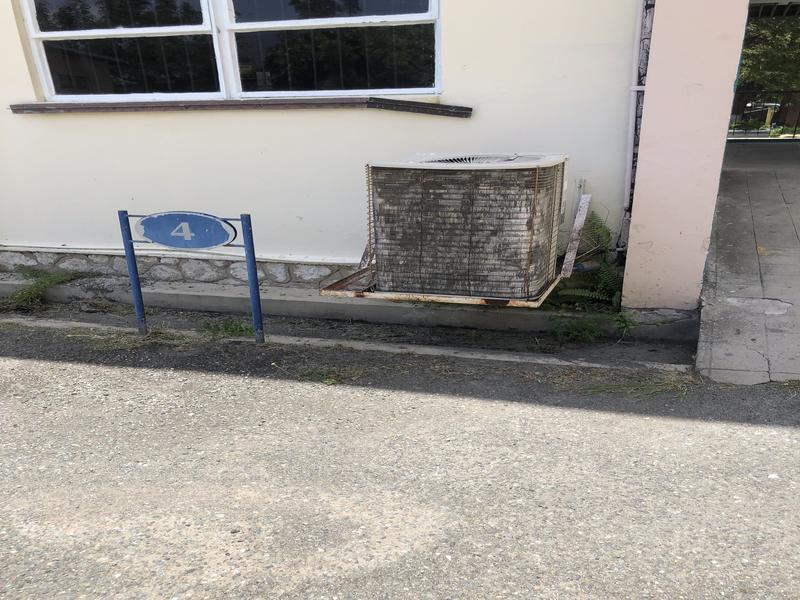18.0053530_-76.7490375_signatentrancetoscitech: (113, 200, 288, 363)
